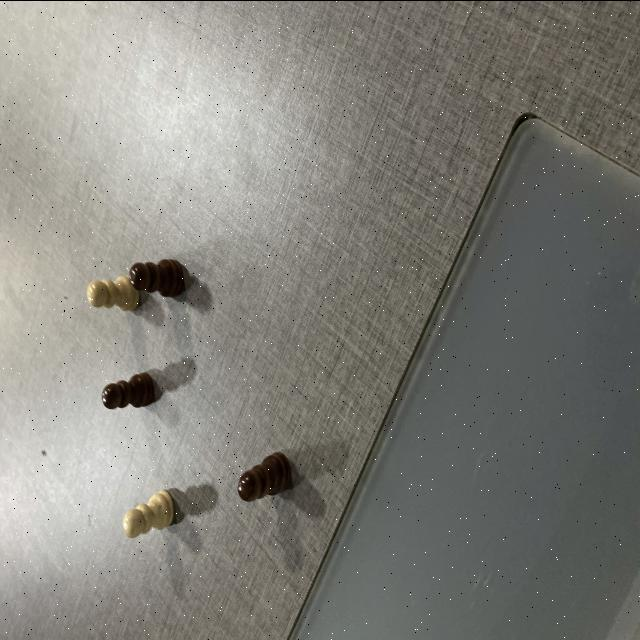Black-Pawn: (236, 450, 288, 500), (130, 260, 187, 296), (102, 372, 152, 410)
White-Pawn: (122, 490, 174, 534), (88, 278, 138, 312)
